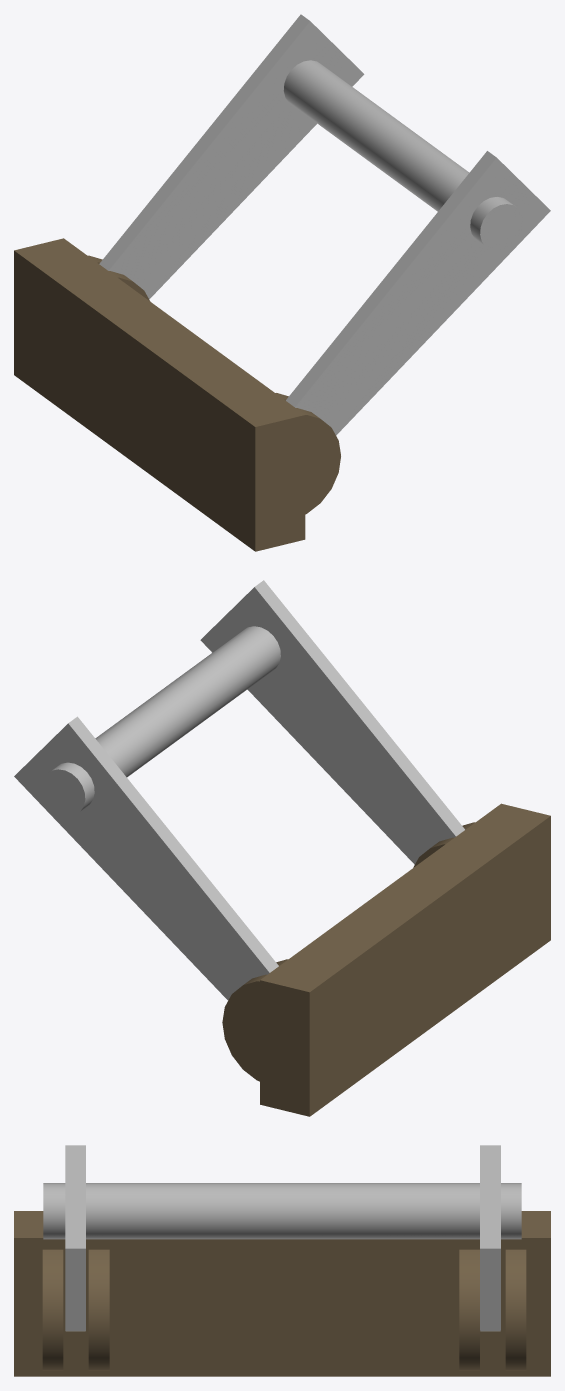
Rendered from Levier02_Animation 1.fbx.
The picture shows the model from 3 angles, top to bottom: view 1: azimuth 30°, elevation 25°; view 2: azimuth 150°, elevation 25°; view 3: azimuth 270°, elevation 25°; orthographic projection. The views are drawn at different scales.
Visible parts, largest first — view 1: Levier_Geo, Base_Geo; view 2: Levier_Geo, Base_Geo; view 3: Base_Geo, Levier_Geo.
Part boxes in pixels (bbox=[...]): Levier_Geo: bbox=[99, 14, 550, 435]; Base_Geo: bbox=[14, 238, 340, 551]; Levier_Geo: bbox=[14, 580, 465, 1000]; Base_Geo: bbox=[222, 803, 550, 1116]; Base_Geo: bbox=[14, 1211, 550, 1376]; Levier_Geo: bbox=[43, 1145, 521, 1331].
Bounding box in the file's own units: 6.4 × 6 × 8.39.
